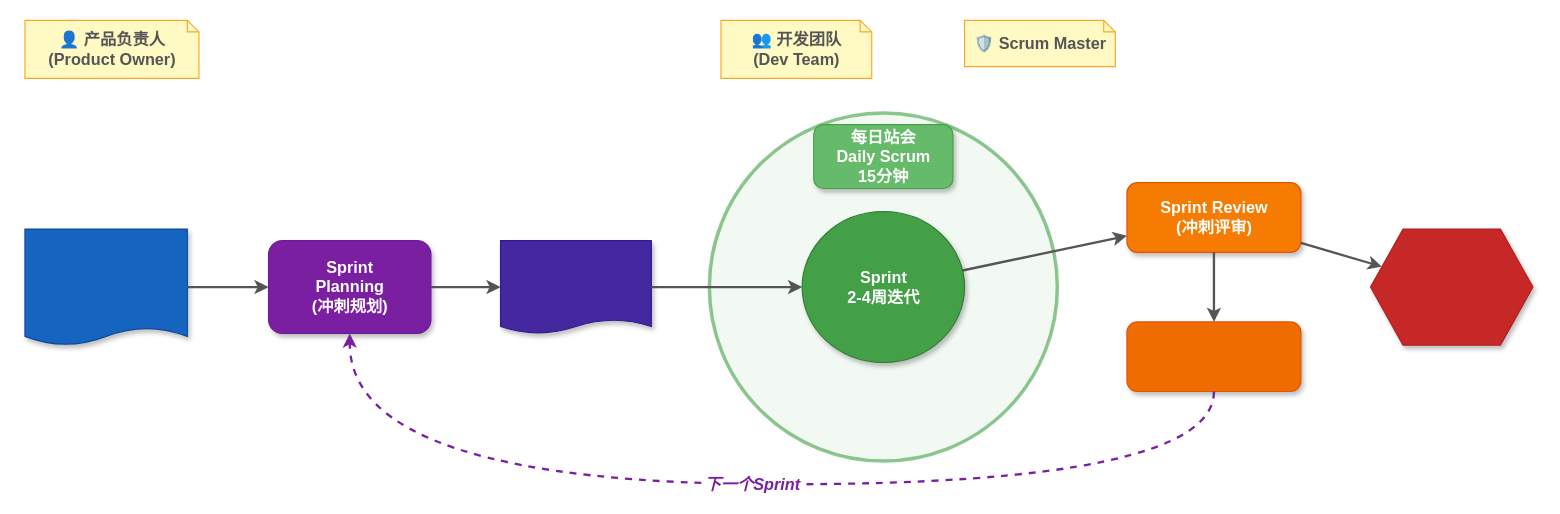
Some shapes in this 1560 by 514 pixel diagram are drawn without their labels. The shapes that lost their labels are listed below. From the top down, each one's centre as x and y in pixels, then its label:
At pixel 106 288: "Product Backlog (产品待办列表)".
At pixel 576 288: "Sprint Backlog (冲刺待办列表)".
At pixel 1452 288: "可交付 产品增量 (Increment)".
At pixel 1214 358: "Retrospective (冲刺回顾)".
